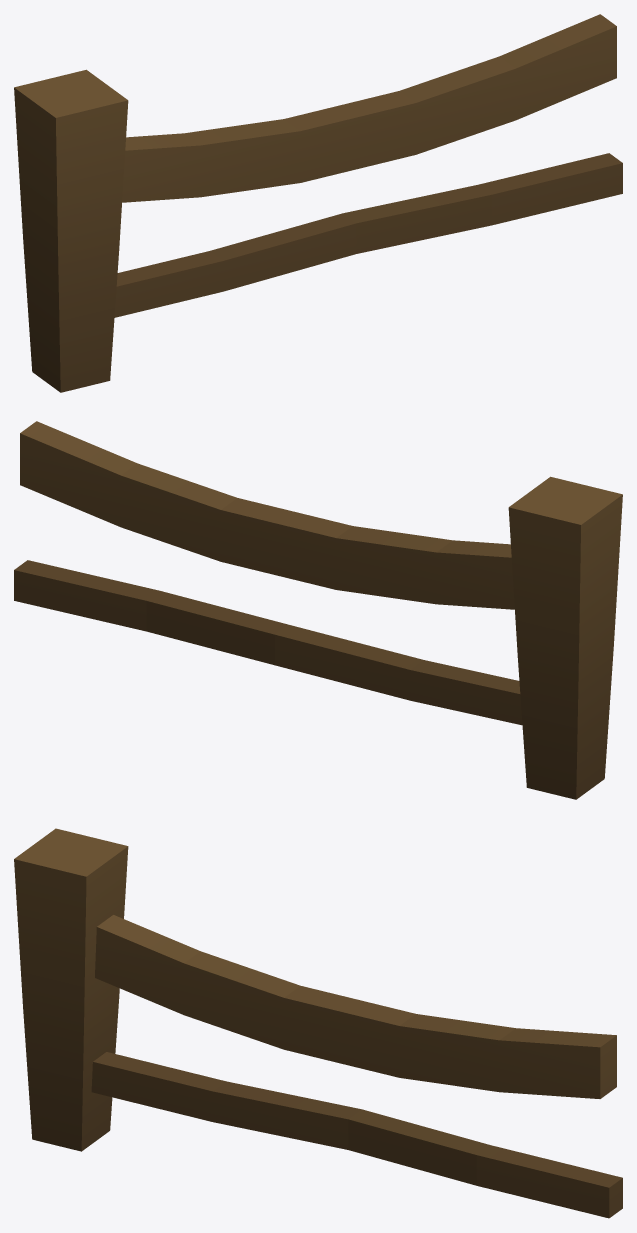
File: Fence_02.fbx
3 renders of one model, top to bottom at view 1: azimuth 30°, elevation 25°; view 2: azimuth 150°, elevation 25°; view 3: azimuth 330°, elevation 25°, orthographic.
Parts seen in each view (by area): view 1: Fence_02; view 2: Fence_02; view 3: Fence_02.
Boxes of the visible parts, x1=… form: Fence_02: x1=14, y1=14, x2=622, y2=392; Fence_02: x1=14, y1=421, x2=622, y2=799; Fence_02: x1=14, y1=828, x2=622, y2=1218.
Bounding box in the file's own units: 2.2 × 1.02 × 0.2739.
